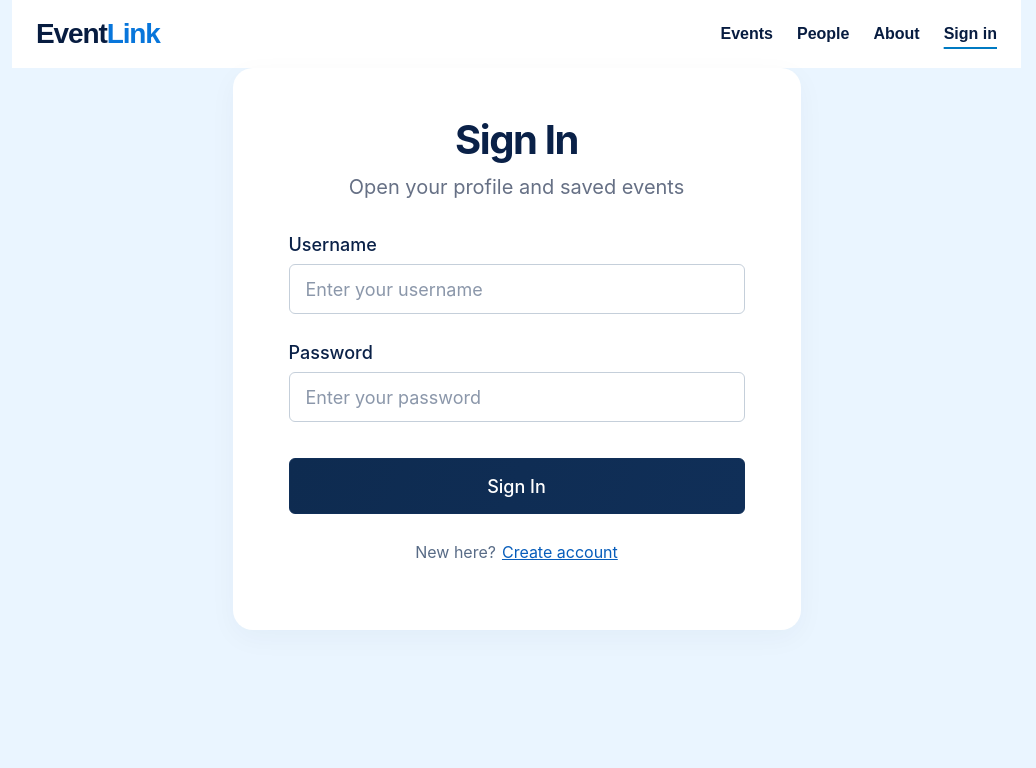
Test case: an external return URL falls back to the authenticated profile
Expected: the button "Sign In" is enabled, top-left (288, 458), bottom-right (744, 514)
Step 1. Type "account-owner" into the field labelled "Username" → (516,289), box top-left (288, 264), bottom-right (744, 314)
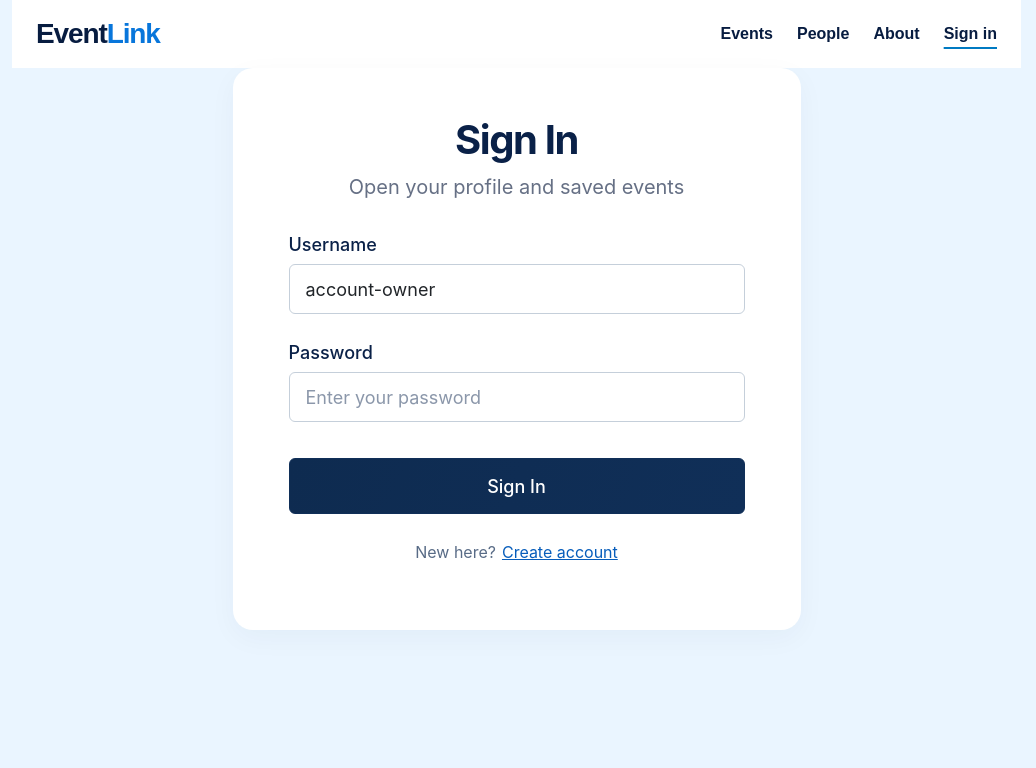
Step 2. Type "test-password-123" into the password field labelled "Password" → (516,397), box top-left (288, 372), bottom-right (744, 422)
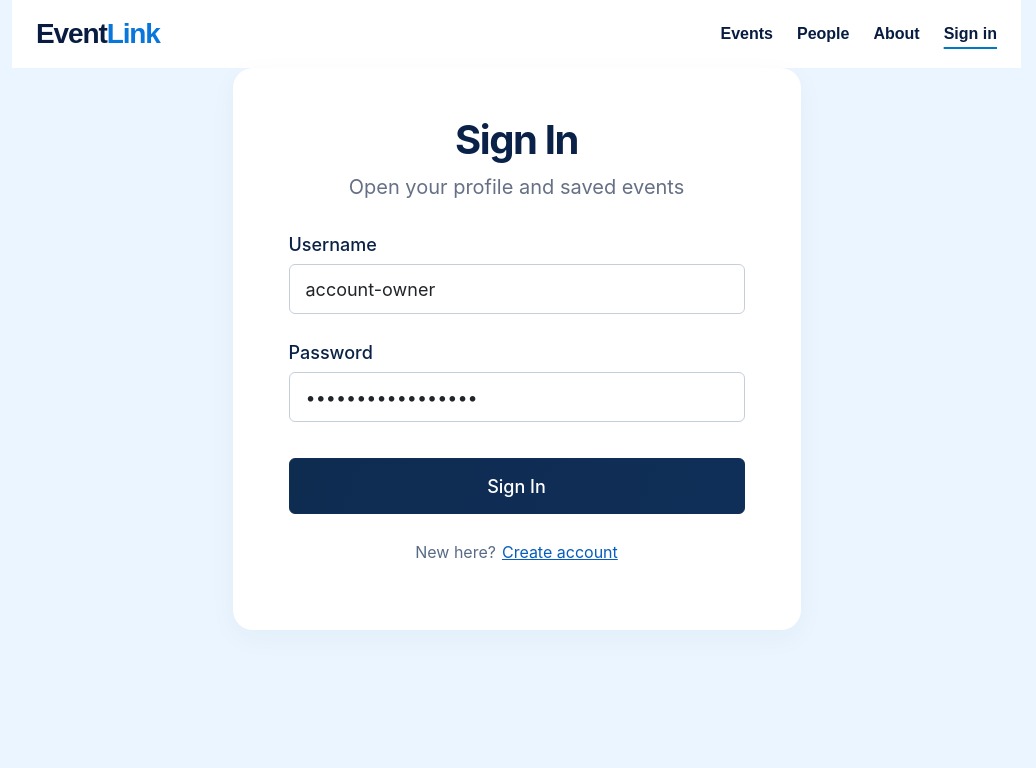
Step 3. Click the button "Sign In" → (516,486), box top-left (288, 458), bottom-right (744, 514)
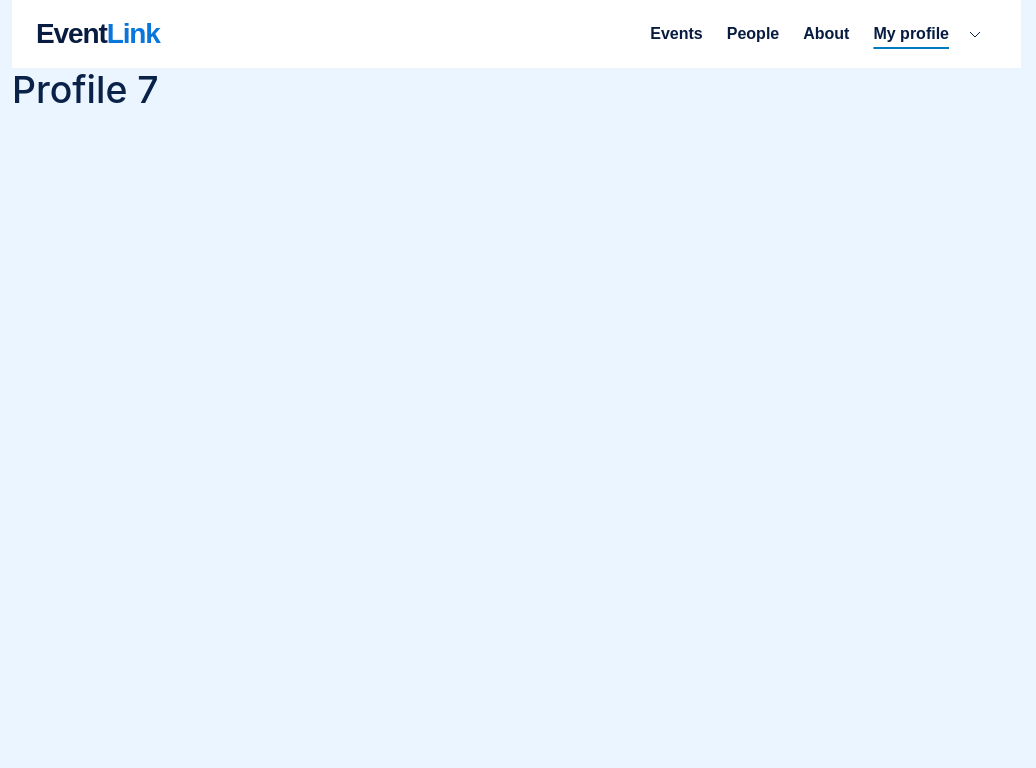
Now the heading "Profile 7" is shown, box top-left (12, 67), bottom-right (159, 112)
